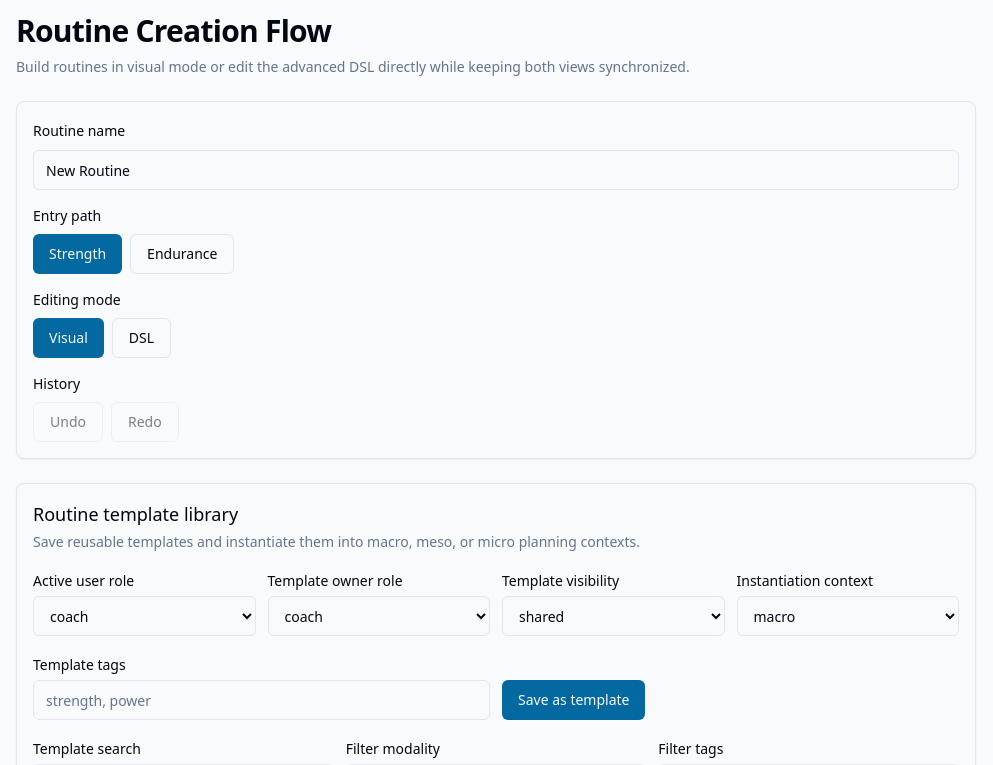
Test: RoutineCreationFlow › supports drag edits for endurance duration and target with deterministic precision
Click the button "Endurance" at (182, 254), box x1=130 y1=234 x2=234 y2=274
(page scrolled)
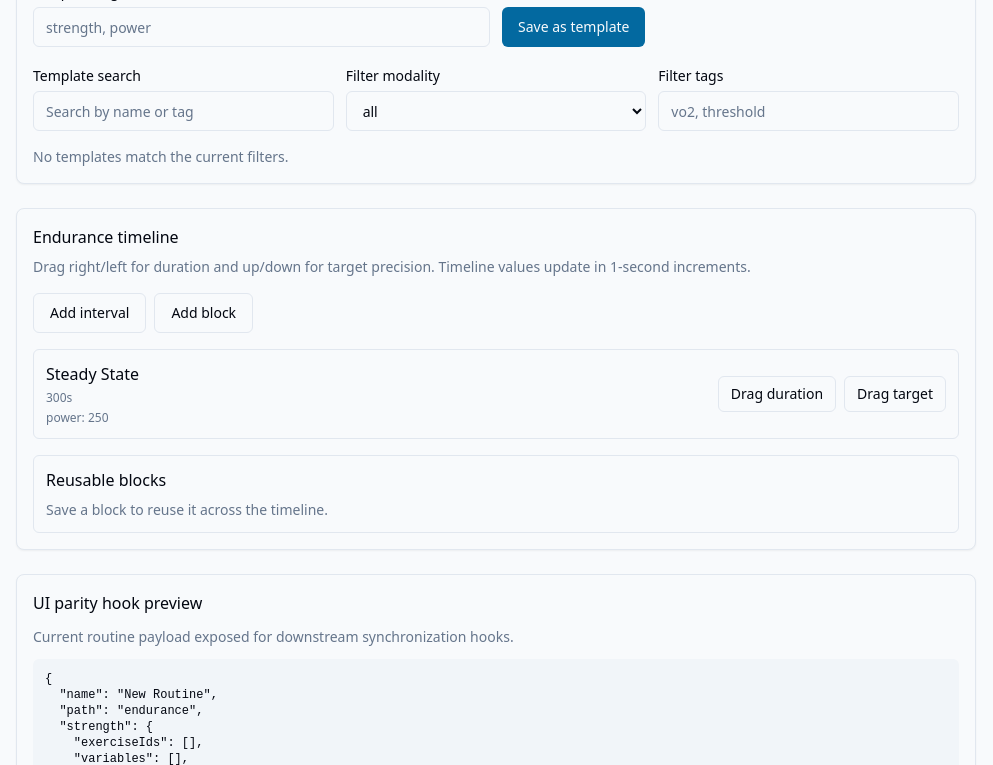
Press the mouse on the button with aria-label "Resize duration for Steady State" at (777, 394), box x1=718 y1=376 x2=836 y2=412
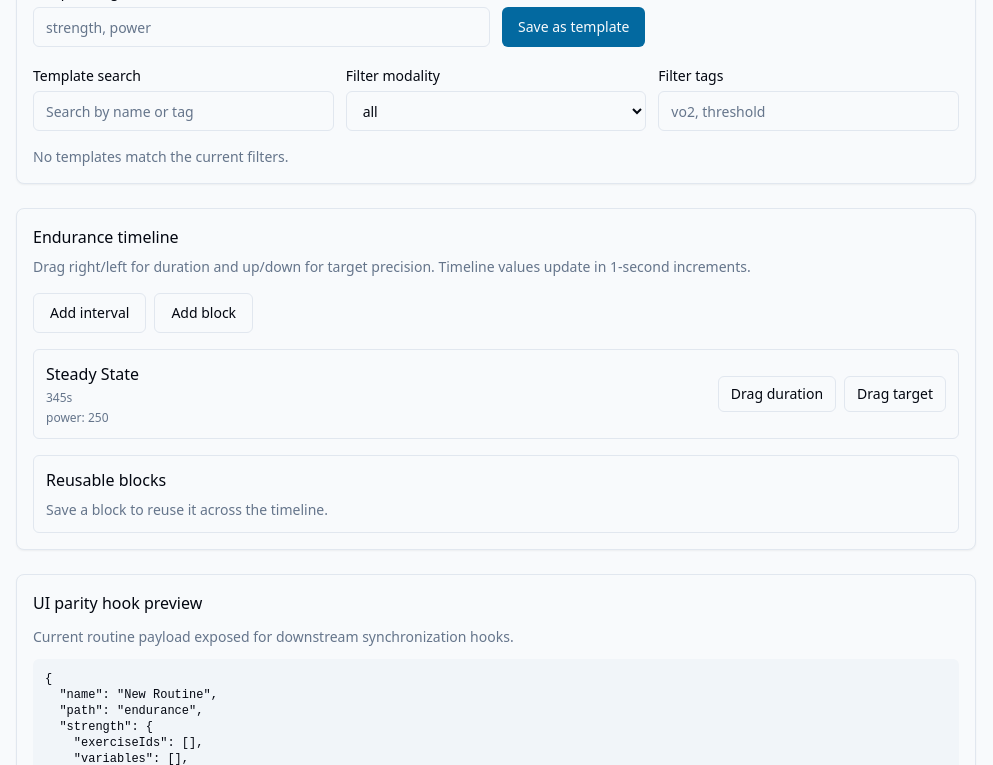
Check: the text "345s" is shown, box x1=46 y1=389 x2=72 y2=406
Press the mouse on the button with aria-label "Adjust target for Steady State" at (895, 394), box x1=844 y1=376 x2=946 y2=412
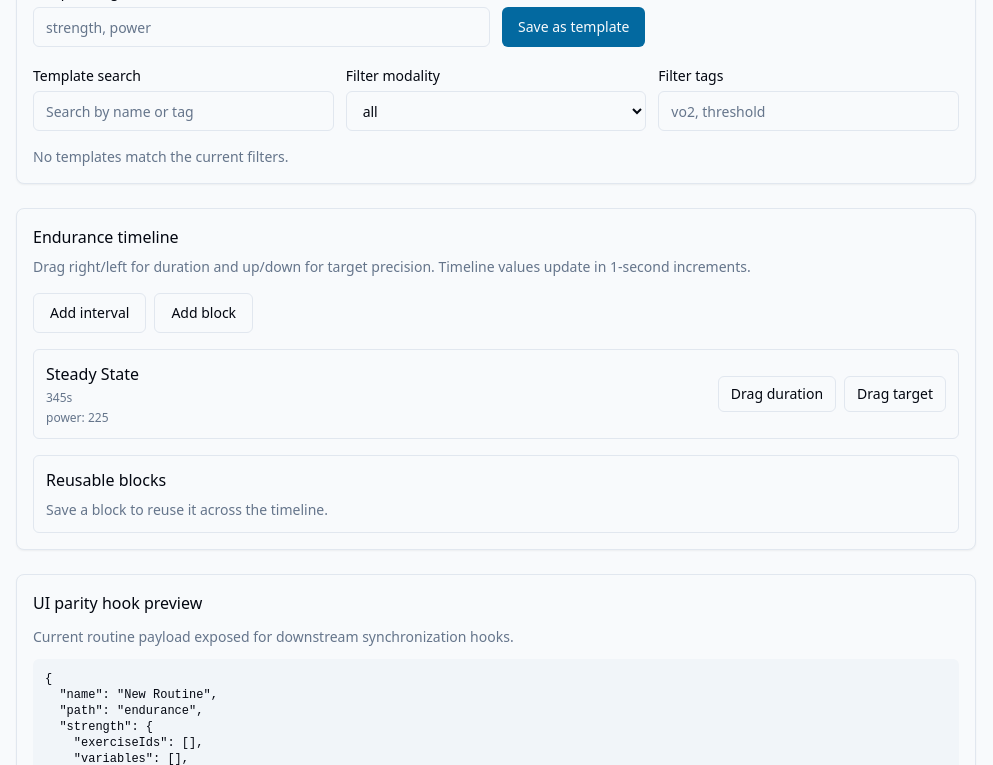
Check: the text "power: 225" is shown, box x1=46 y1=409 x2=108 y2=426
